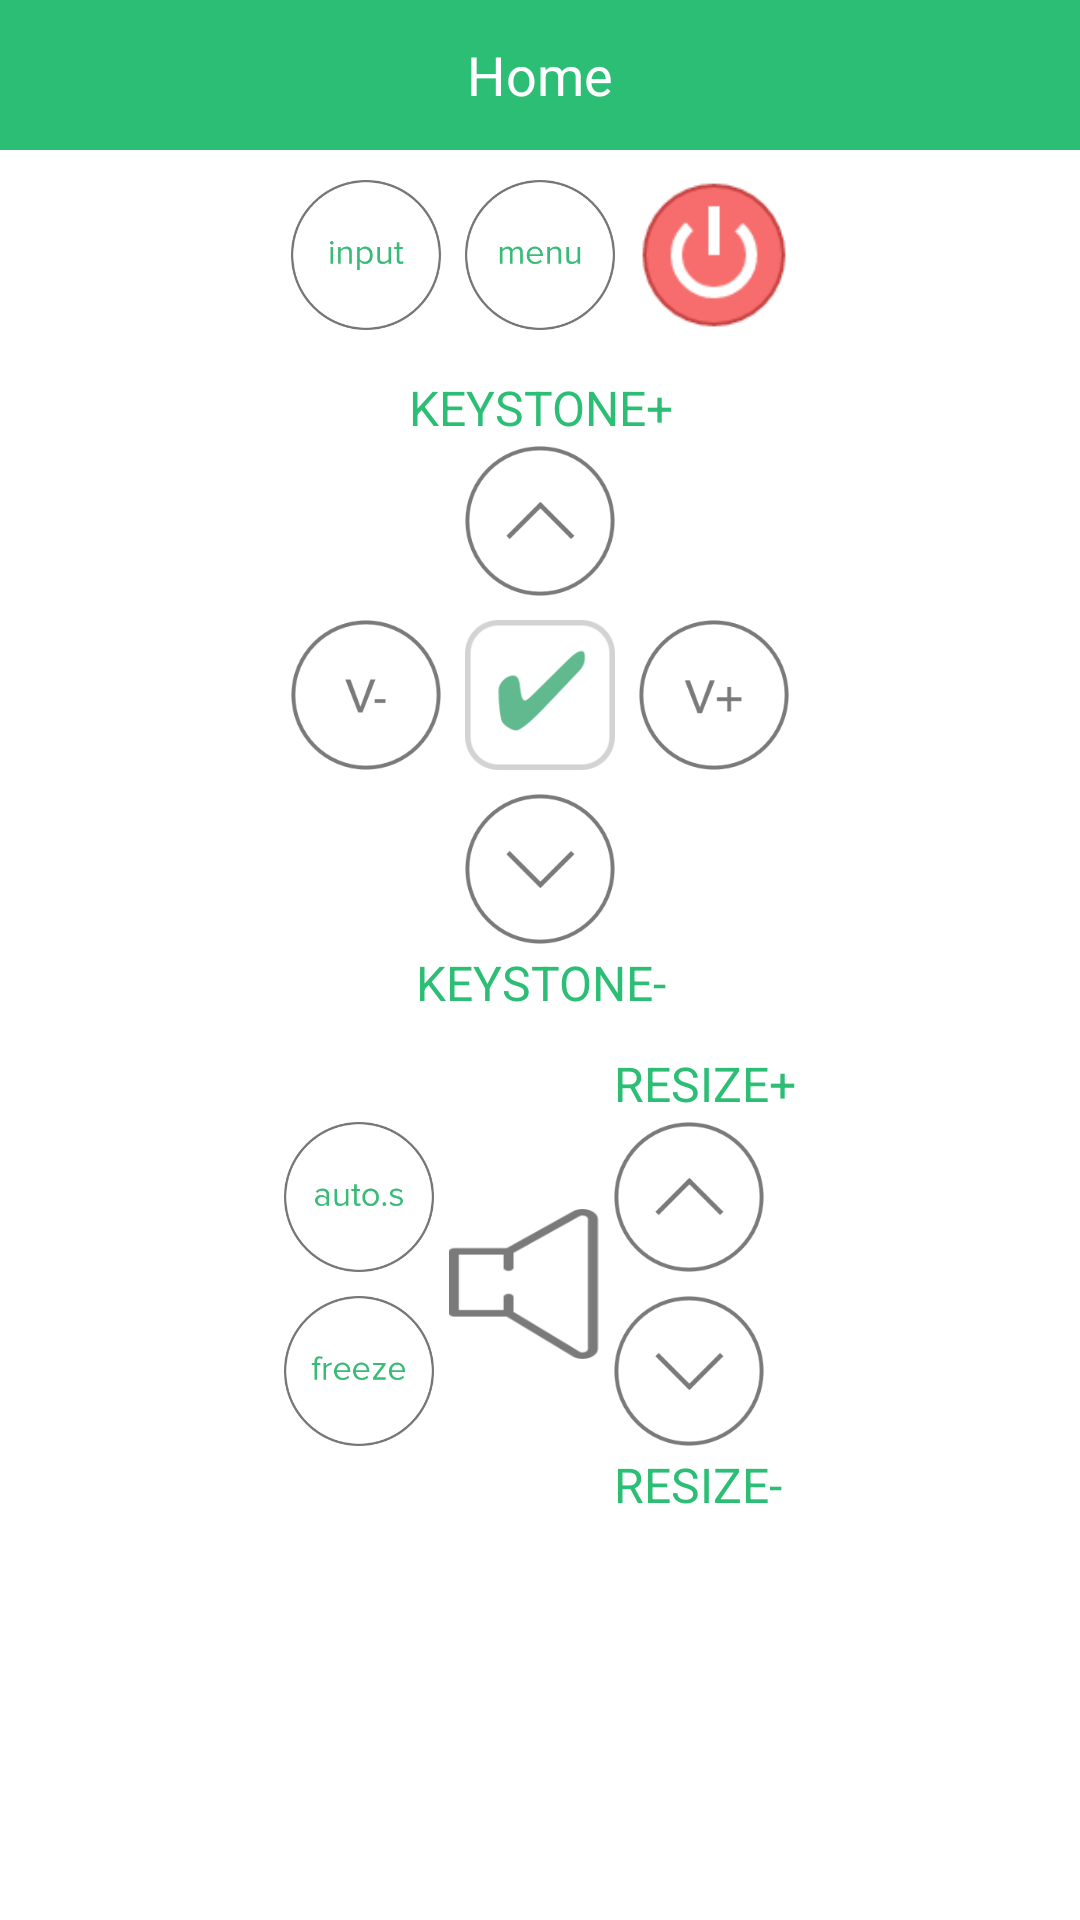

Named icons in this screenshot (1080 × 1920) and their bounding boxes, (x1, y1, x2, y2):
check: (465, 620, 615, 770)
down: (465, 794, 615, 944), (614, 1296, 764, 1446)
power: (642, 183, 786, 327)
toggle mute: (449, 1209, 599, 1359)
volume down: (291, 620, 441, 770)
volume up: (639, 620, 789, 770)
